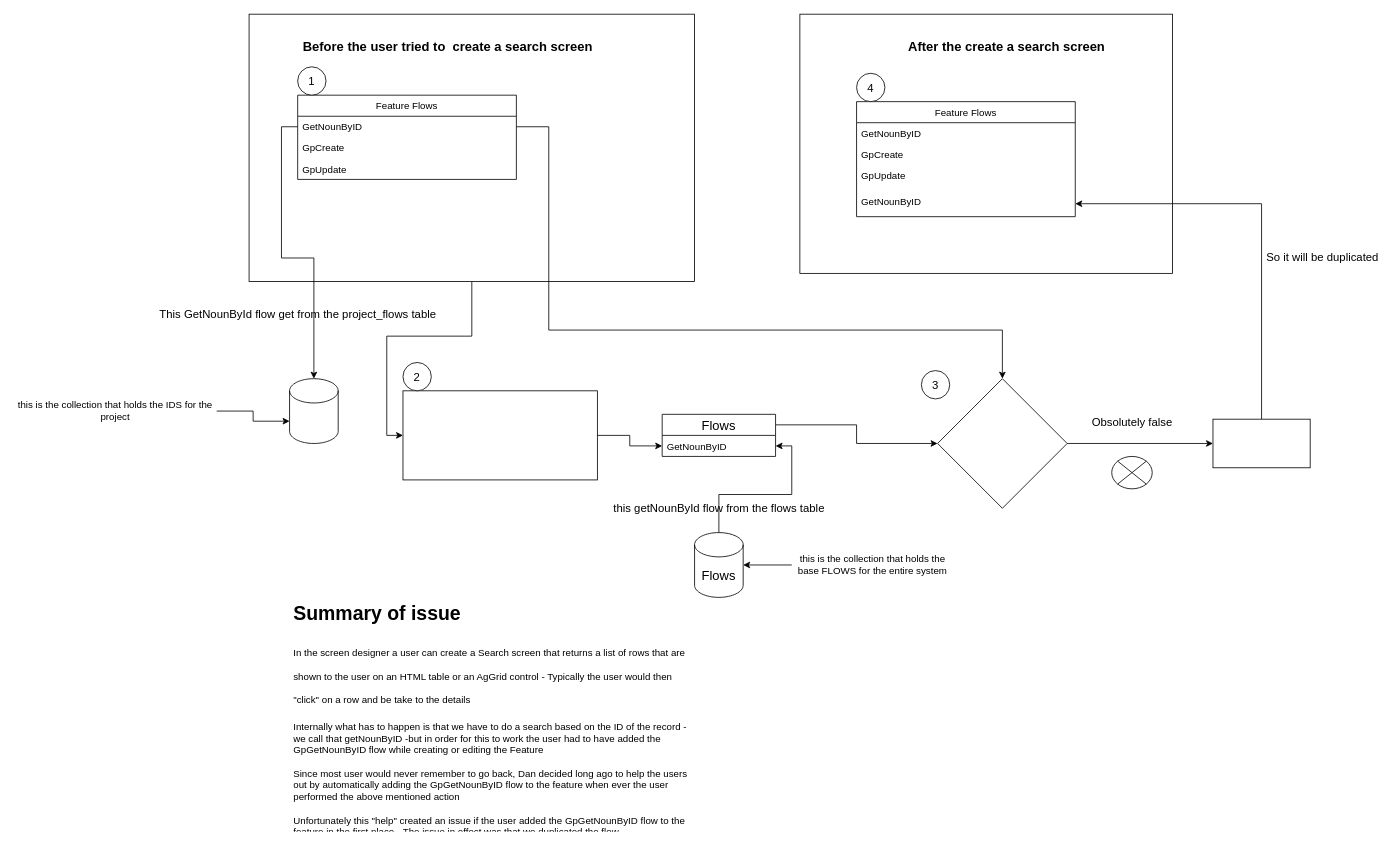
This 1396x851 diagram has some shape labels left out. Each missing label, with the centre of its shape:
Check the if getNounById is there By flow Id: [1002,443]
In screen designer - add search for update flow on click from a html table: [499,435]
Project Flows: [313,410]
So It will added to the feature flows: [1261,443]
